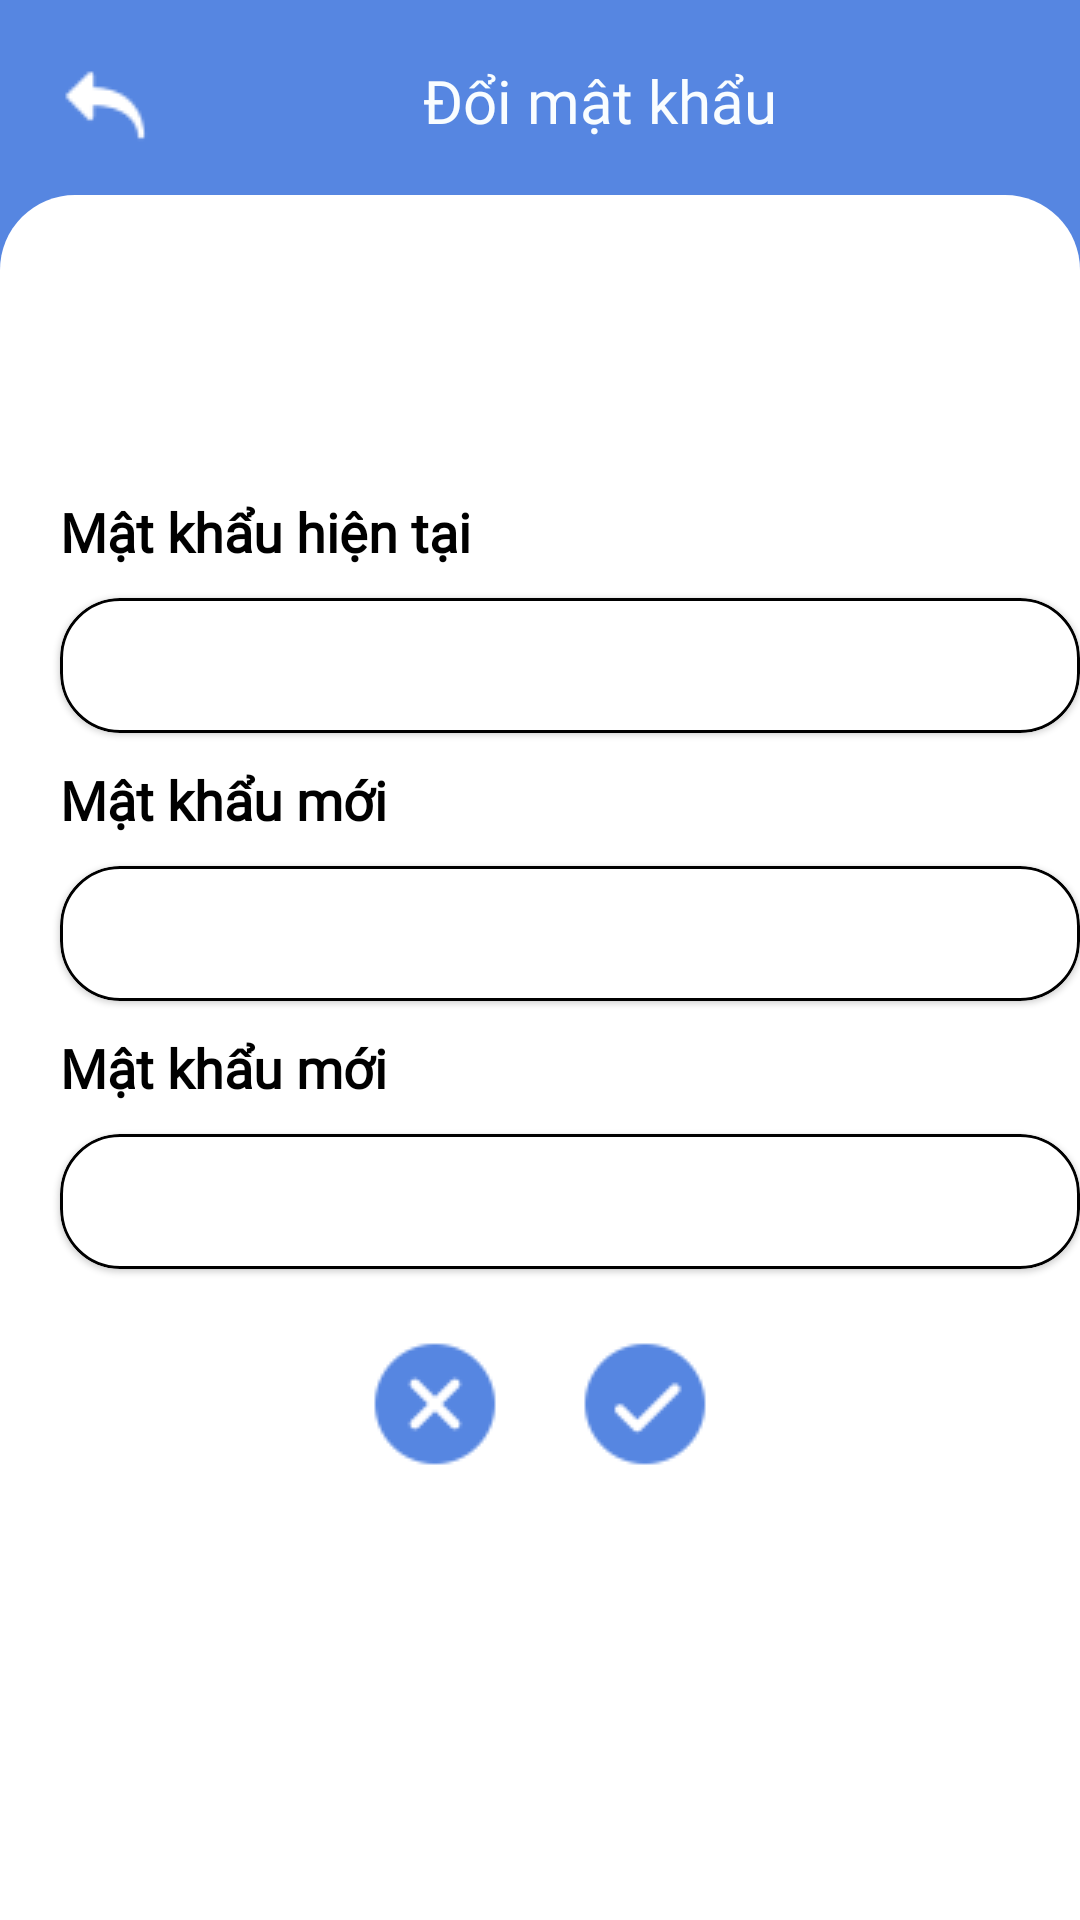

Where icons sit on this 1080px x 1920px app screen, as bbox(x1, y1, x2, y2):
accept: bbox(584, 1343, 706, 1465)
backarrow: bbox(65, 71, 145, 139)
cancel: bbox(374, 1343, 496, 1465)
